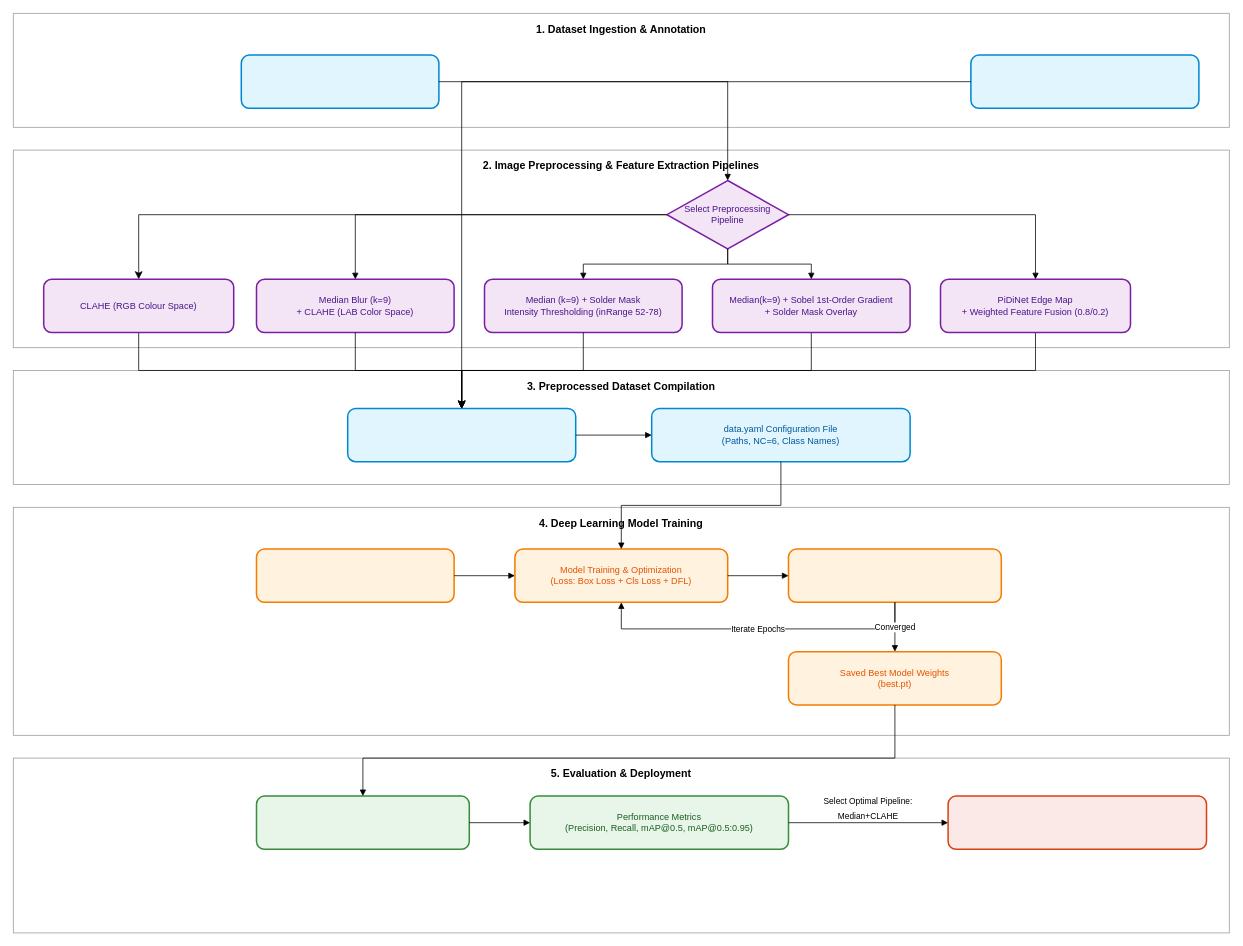
This 1243x946 diagram has some shape labels left out. Here are the shapes that lost their labels. From the top down, the box of each, then its label:
(240, 54, 439, 109): Raw PCB Defect Dataset (train / val / test)
(970, 54, 1199, 109): YOLO Bounding Box Labels (6 Defect Classes)
(347, 407, 576, 462): Generated Dataset Folder Structure (images & labels)
(255, 548, 454, 603): Pretrained YOLOv8s Architecture (yolov8s.pt)
(787, 548, 1002, 603): Validation Check (Hyperparameter tuning & Early Stopping)
(255, 795, 470, 850): Evaluation on Unseen Test Split
(947, 795, 1207, 850): Streamlit GUI Batch & Video Inference App (batch_processing_app.py)
